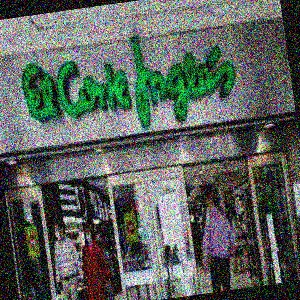corte_ingles: (234, 15, 252, 46)
